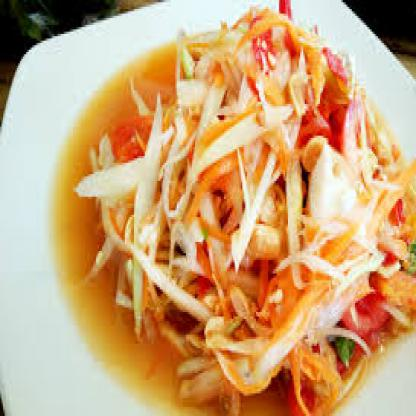Papaya Salad: (70, 13, 415, 414)
